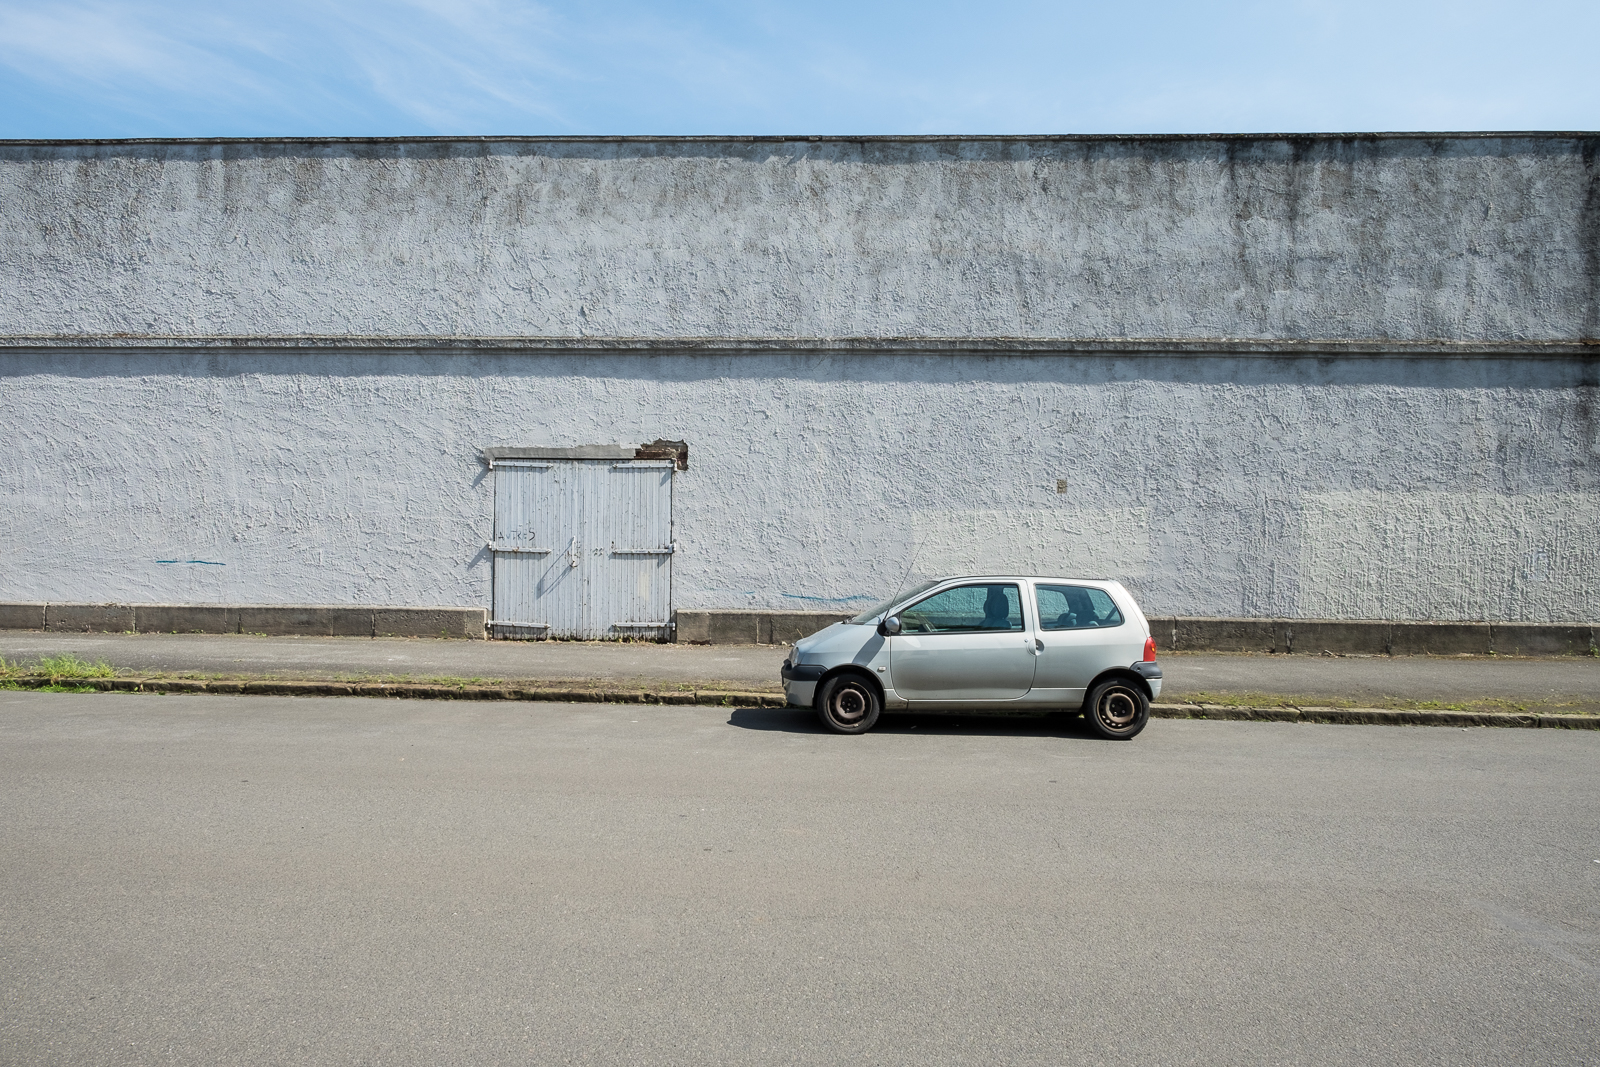car: (770, 568, 1179, 742)
